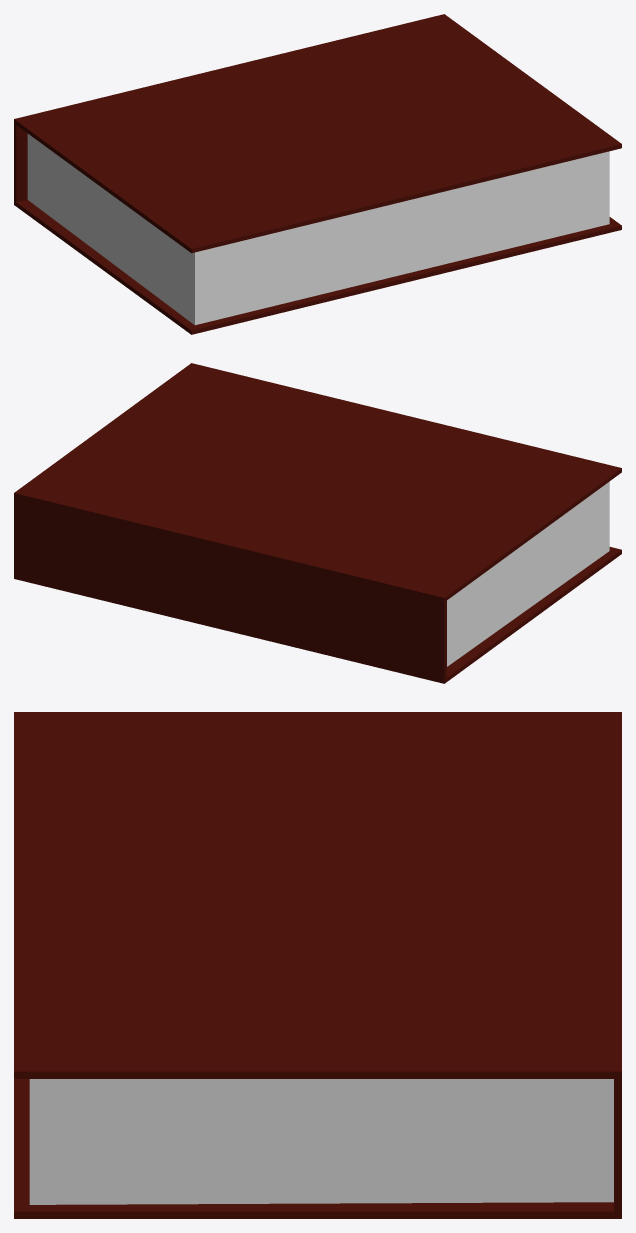
The model's file is ThrowProp_BookSmallRed.FBX.
3 renders of one model, top to bottom at view 1: azimuth 30°, elevation 25°; view 2: azimuth 150°, elevation 25°; view 3: azimuth 270°, elevation 25°, orthographic. The views are drawn at different scales.
Visible parts, largest first — view 1: Book_SmallRed; view 2: Book_SmallRed; view 3: Book_SmallRed.
Part boxes in pixels (<box>): Book_SmallRed: <box>14,14,621,334</box>; Book_SmallRed: <box>14,363,621,683</box>; Book_SmallRed: <box>14,712,621,1218</box>.
Size of the model in its own units: 13.97 by 2.66 by 9.98.
1 material, 1 textured.
